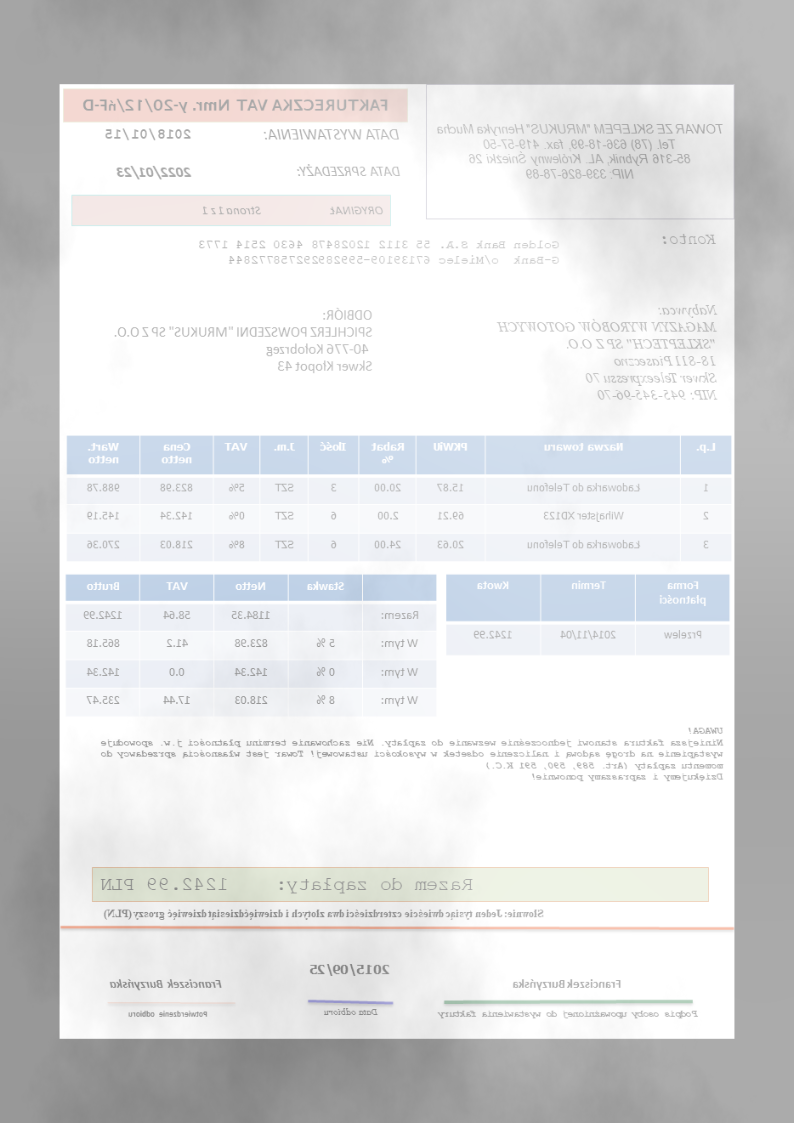Table: (66, 434, 733, 563), (64, 573, 438, 717), (446, 572, 731, 657)
TextBox: (99, 724, 726, 783), (496, 303, 719, 402), (434, 119, 726, 182), (114, 305, 374, 374), (196, 237, 560, 268), (100, 874, 475, 896), (103, 906, 545, 921), (82, 94, 392, 115), (437, 1007, 700, 1021), (201, 202, 386, 219), (262, 125, 401, 142), (295, 162, 403, 179), (109, 978, 224, 992), (512, 977, 624, 991), (105, 127, 193, 143), (309, 961, 392, 977), (113, 165, 194, 179), (661, 230, 718, 247), (127, 1008, 210, 1019), (322, 1006, 380, 1018)
